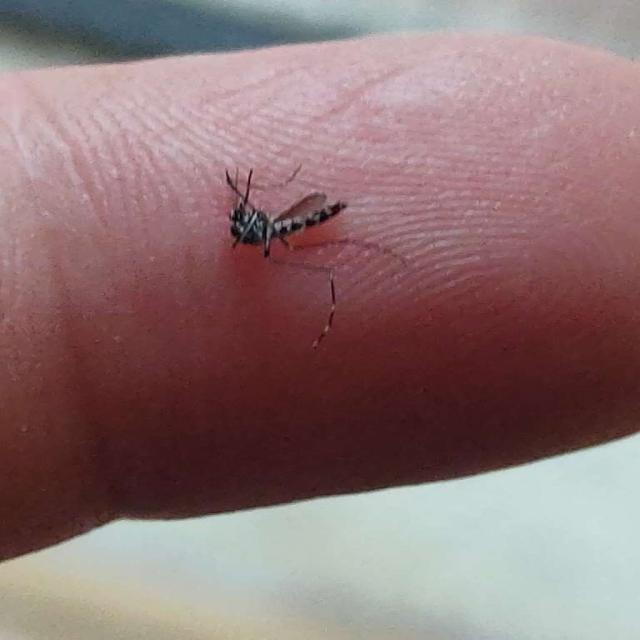albopictus: (212, 158, 354, 264)
